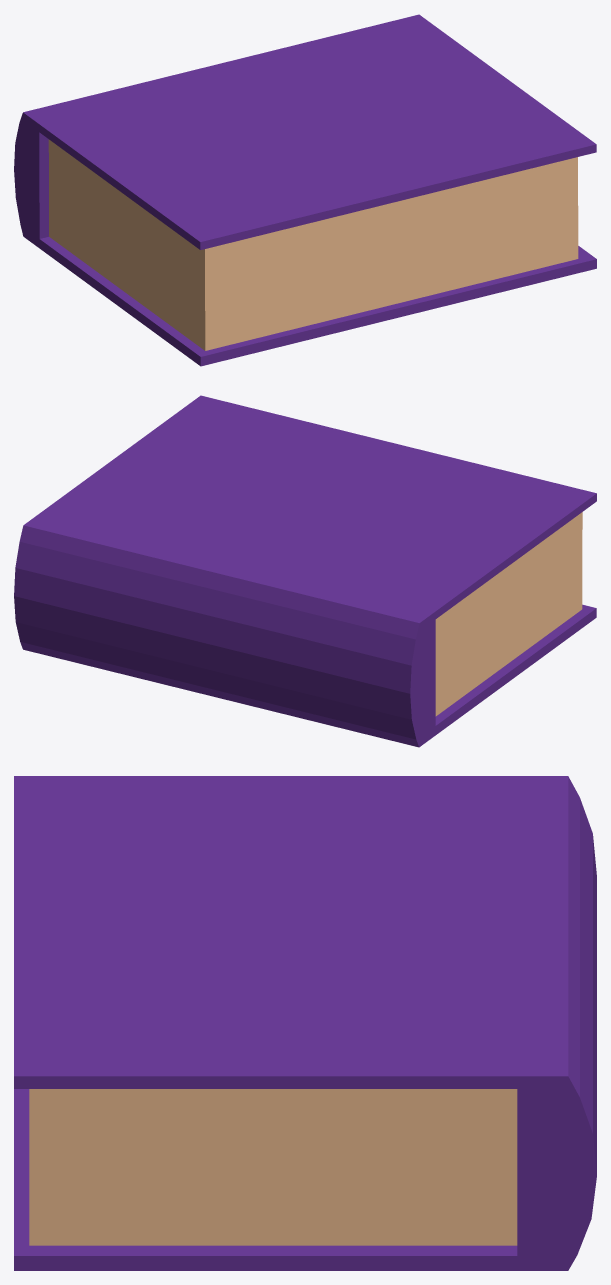
The model's file is Book_Purple.fbx.
3 renders of one model, top to bottom at view 1: azimuth 30°, elevation 25°; view 2: azimuth 150°, elevation 25°; view 3: azimuth 270°, elevation 25°, orthographic. The views are drawn at different scales.
Parts seen in each view (by area): view 1: Book_3.006; view 2: Book_3.006; view 3: Book_3.006.
Boxes of the visible parts, <box> form: Book_3.006: <box>14,14,596,366</box>; Book_3.006: <box>14,395,596,747</box>; Book_3.006: <box>14,776,596,1270</box>.
Size of the model in its own units: 48.04 by 14.54 by 39.16.
